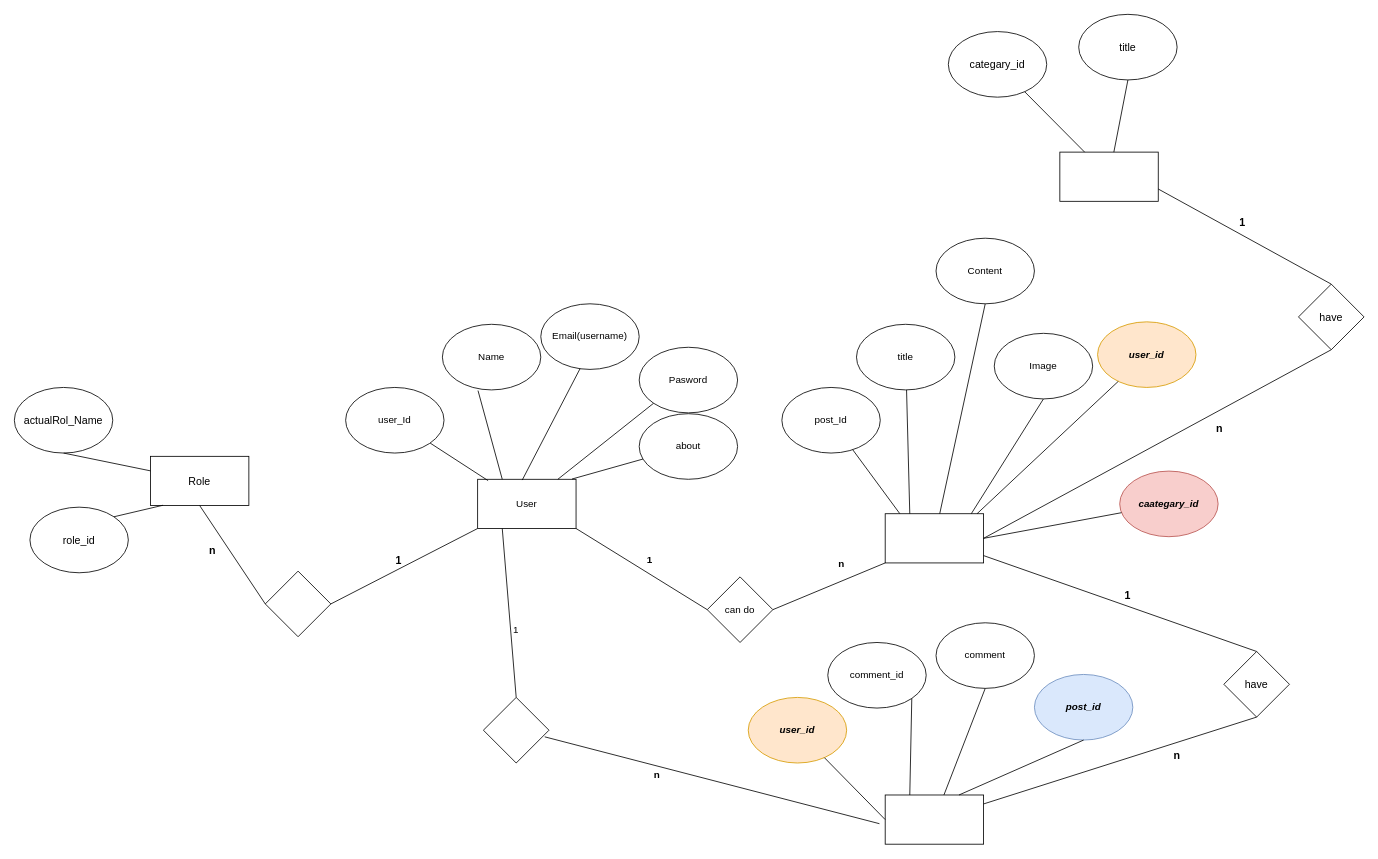
Image size: 1378x859. Some labels were removed from this diagram. Each missing label, with the centre of its shape:
"can" goes at [297,603].
"can have" goes at [516,730].
"Categary" goes at [1108,176].
"Commnet" goes at [934,819].
"Post" goes at [934,538].
